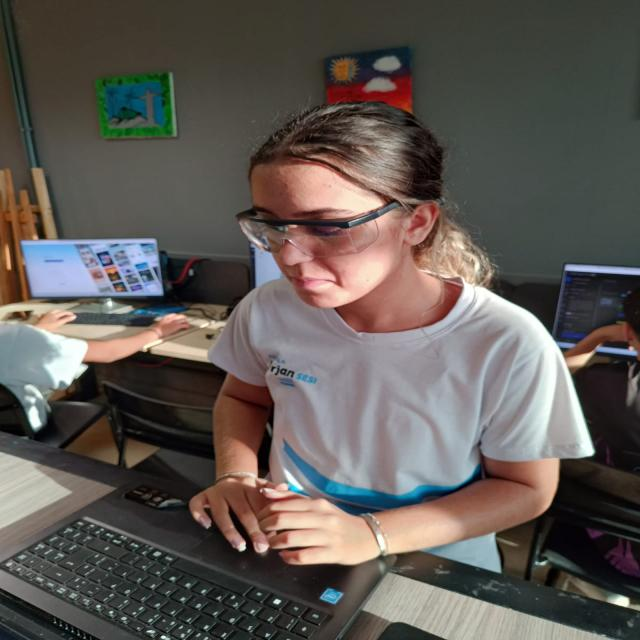oculos-epi: (233, 202, 399, 257)
